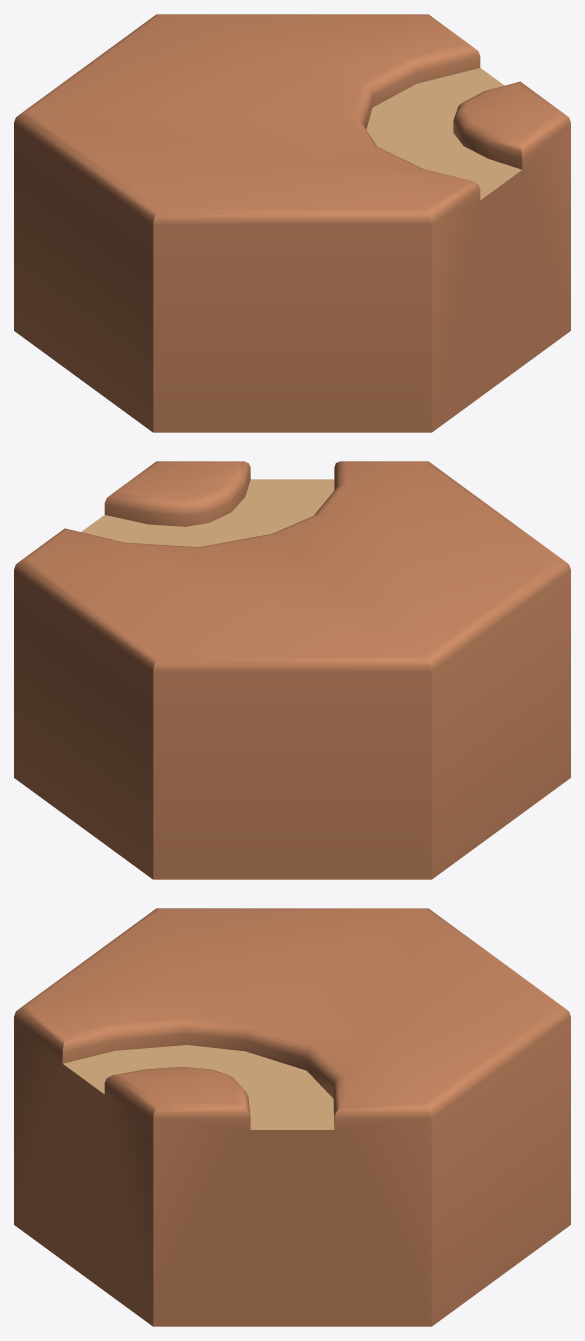
File: hex_rock_roadC.glb
3 renders of one model, top to bottom at view 1: azimuth 30°, elevation 25°; view 2: azimuth 150°, elevation 25°; view 3: azimuth 270°, elevation 25°, orthographic.
Visible parts, largest first — view 1: hex_rock_roadC; view 2: hex_rock_roadC; view 3: hex_rock_roadC.
Boxes of the visible parts, x1,y1,x2,y2 form: hex_rock_roadC: (14,14,570,432); hex_rock_roadC: (14,461,570,879); hex_rock_roadC: (14,908,570,1326).
Size of the model in its own units: 3.82 by 1.91 by 4.41.
